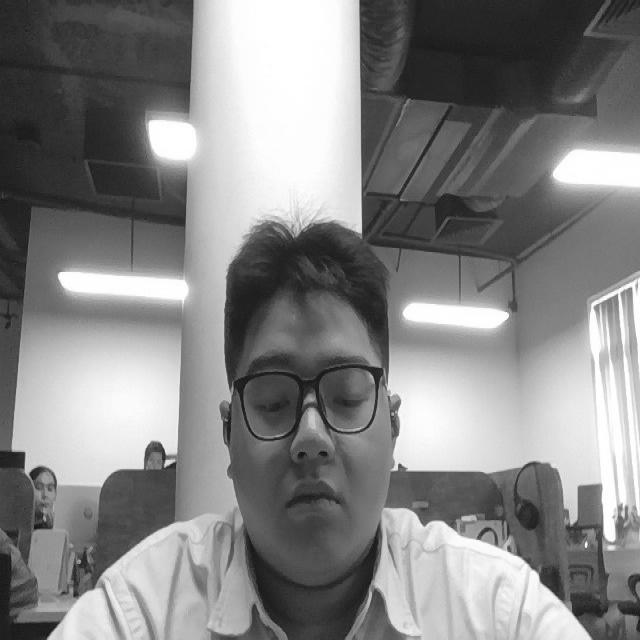real: (220, 217, 401, 584), (235, 381, 388, 434)
